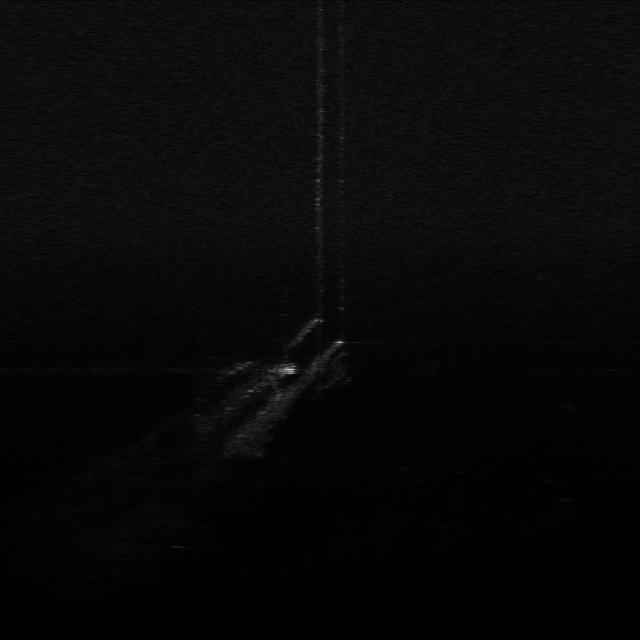rov: (270, 364, 302, 378)
